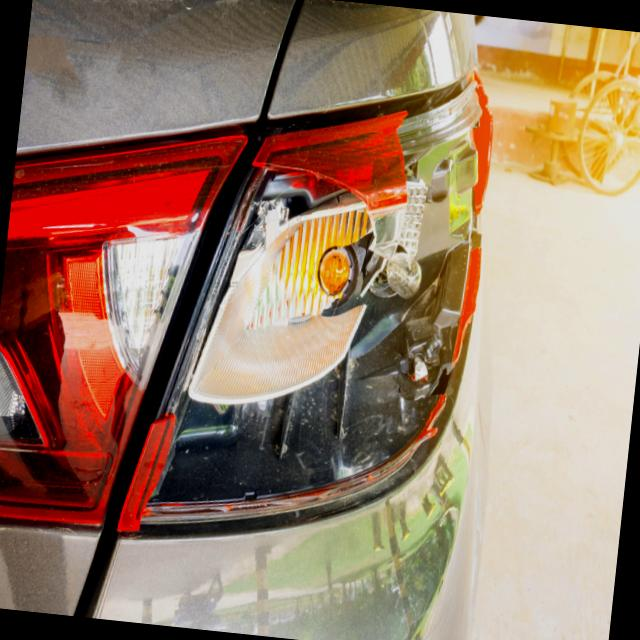Phare abime: (137, 55, 487, 545)
